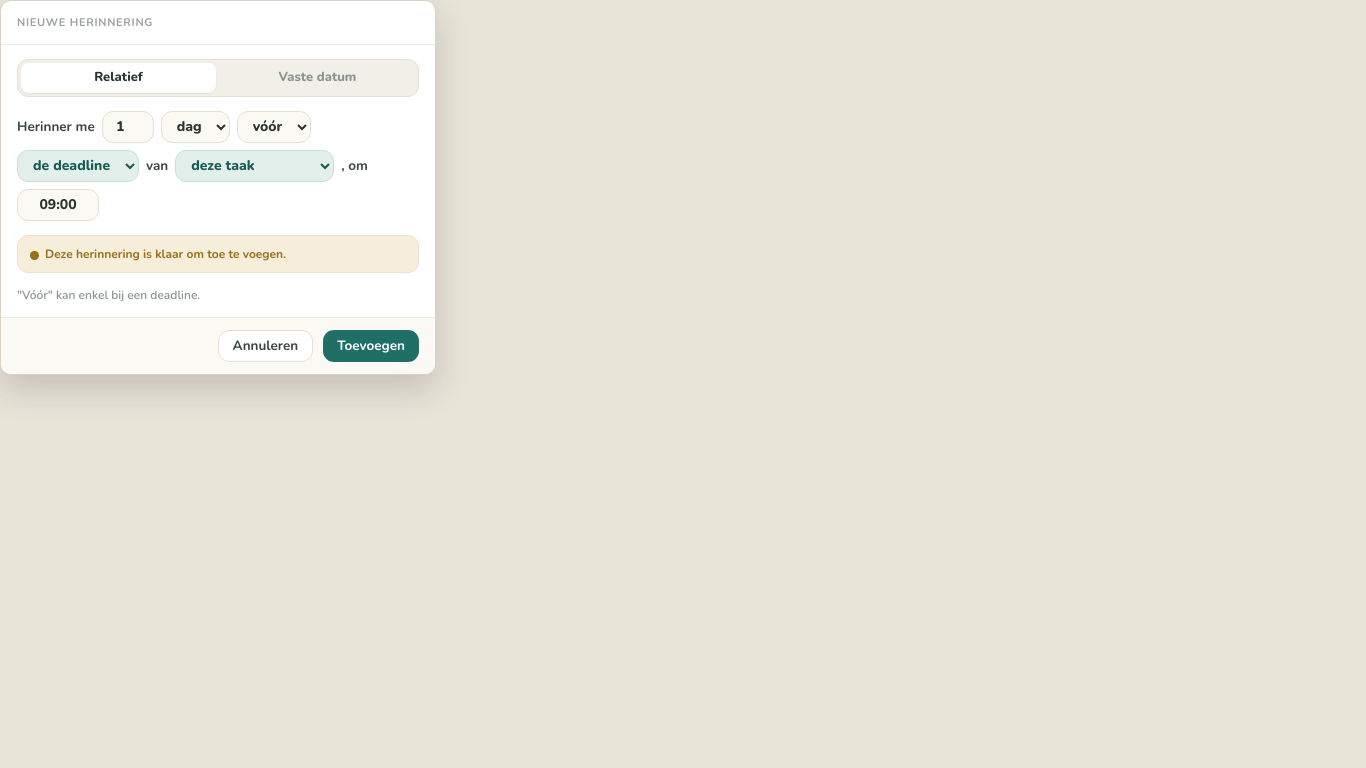
Test case: ReminderPopover — rules the sentence enforces › "vóór" disappears once basis = status; direction shows a fixed "ná"
Select "de status" in the dropdown named "Basis": (78, 166) [17,150,139,182]
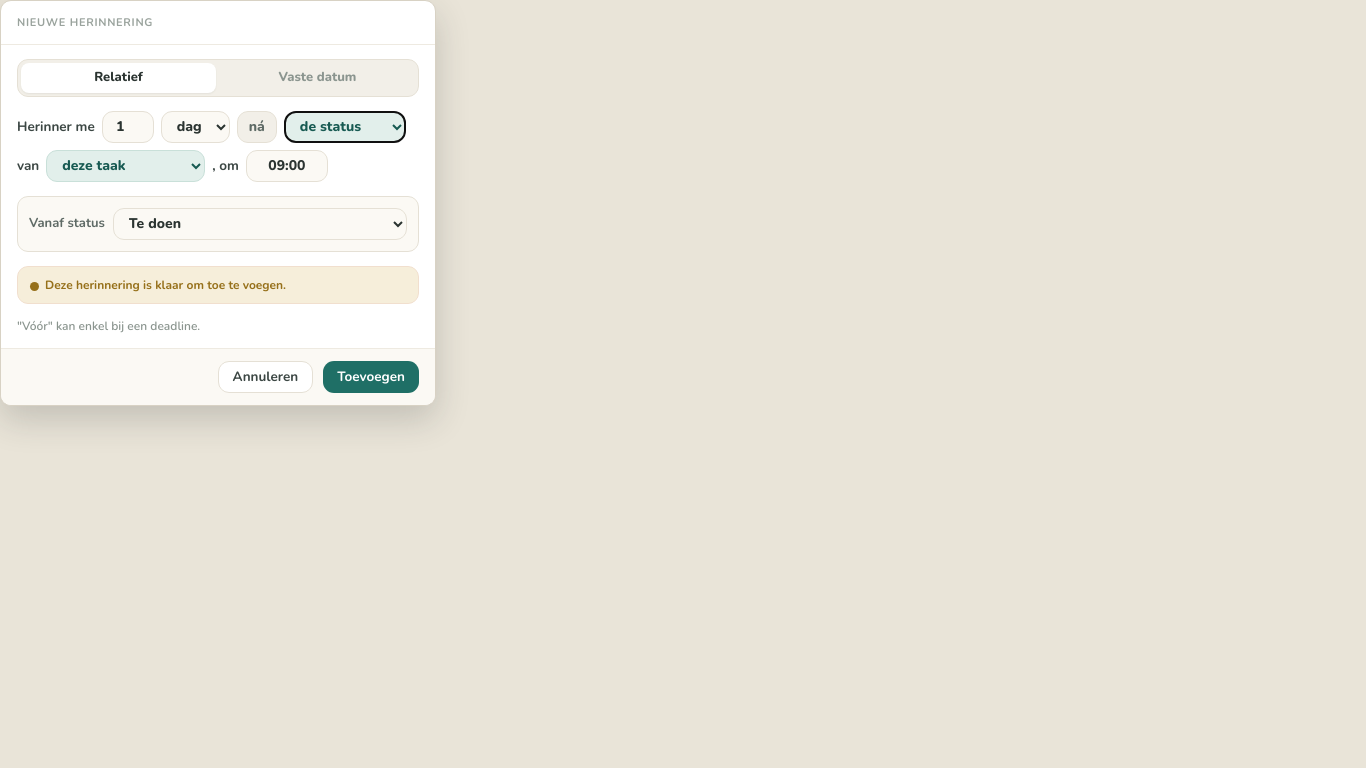
Expected: the text named "Richting" reads "ná", [249,116,265,136]
